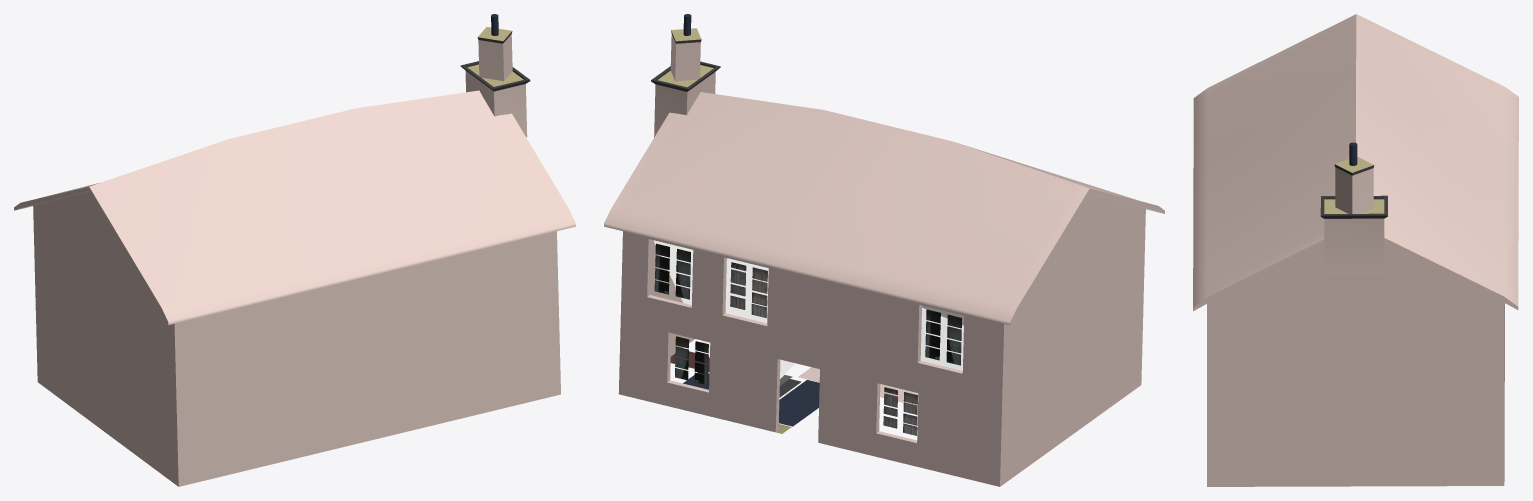
File: HouseDRoot.fbx
3 renders of one model, left to right at view 1: azimuth 30°, elevation 25°; view 2: azimuth 150°, elevation 25°; view 3: azimuth 270°, elevation 25°, orthographic. The views are drawn at different scales.
Parts seen in each view (by area): view 1: Body_sh_4, Body_sh_8, Body_sh_7, Body_sh_3, Body_sh_1, Body_sh_6, Body_sh_2, Body_sh_5, Body_sh_9, Body_sh_10; view 2: Body_sh_5, Body_sh_6, Body_sh_7, Body_sh_3, Body_sh_8, Body_sh_2, Body_sh_1, Body_sh_4, Body_sh_9, Body_sh_10; view 3: Body_sh_2, Body_sh_1, Body_sh_3, Body_sh_4, Body_sh_5, Body_sh_8, Body_sh_9, Body_sh_6, Body_sh_10.
Part boxes in pixels (x1=…): Body_sh_4: x1=142, y1=165, x2=451, y2=440; Body_sh_8: x1=53, y1=134, x2=284, y2=395; Body_sh_7: x1=35, y1=285, x2=436, y2=486; Body_sh_3: x1=250, y1=101, x2=506, y2=281; Body_sh_1: x1=407, y1=90, x2=575, y2=275; Body_sh_6: x1=412, y1=258, x2=542, y2=424; Body_sh_2: x1=476, y1=270, x2=560, y2=414; Body_sh_5: x1=14, y1=191, x2=68, y2=285; Body_sh_9: x1=460, y1=61, x2=530, y2=137; Body_sh_10: x1=477, y1=27, x2=512, y2=81; Body_sh_5: x1=821, y1=149, x2=1052, y2=390; Body_sh_6: x1=638, y1=178, x2=874, y2=440; Body_sh_7: x1=818, y1=329, x2=1142, y2=486; Body_sh_3: x1=663, y1=102, x2=929, y2=248; Body_sh_8: x1=927, y1=136, x2=1139, y2=353; Body_sh_2: x1=604, y1=180, x2=795, y2=422; Body_sh_1: x1=629, y1=92, x2=772, y2=185; Body_sh_4: x1=1066, y1=177, x2=1164, y2=338; Body_sh_9: x1=651, y1=61, x2=720, y2=137; Body_sh_10: x1=670, y1=28, x2=701, y2=81; Body_sh_2: x1=1207, y1=272, x2=1518, y2=486; Body_sh_1: x1=1193, y1=181, x2=1471, y2=353; Body_sh_3: x1=1193, y1=82, x2=1491, y2=265; Body_sh_4: x1=1193, y1=68, x2=1316, y2=242; Body_sh_5: x1=1370, y1=51, x2=1518, y2=194; Body_sh_8: x1=1248, y1=14, x2=1431, y2=113; Body_sh_9: x1=1320, y1=195, x2=1387, y2=280; Body_sh_6: x1=1459, y1=179, x2=1518, y2=376; Body_sh_10: x1=1334, y1=156, x2=1374, y2=213.
Bounding box in the file's own units: 1063 × 783 × 671.
